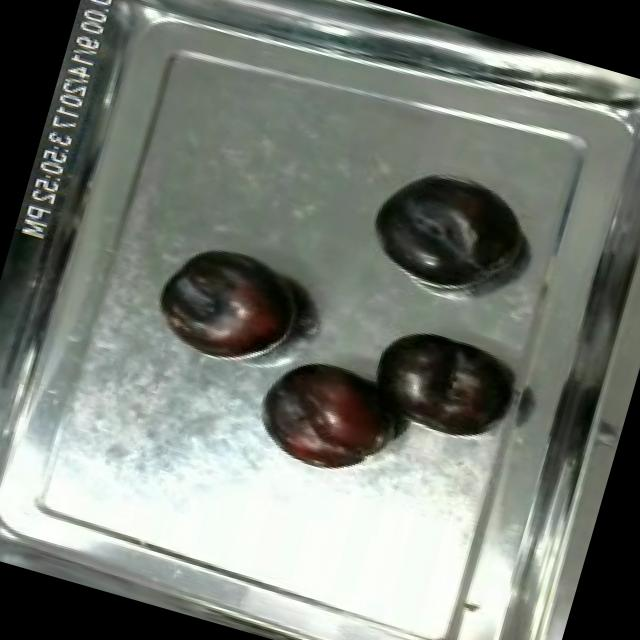Fruit: (356, 154, 532, 305), (142, 230, 316, 379), (243, 344, 412, 490), (356, 318, 523, 452)
